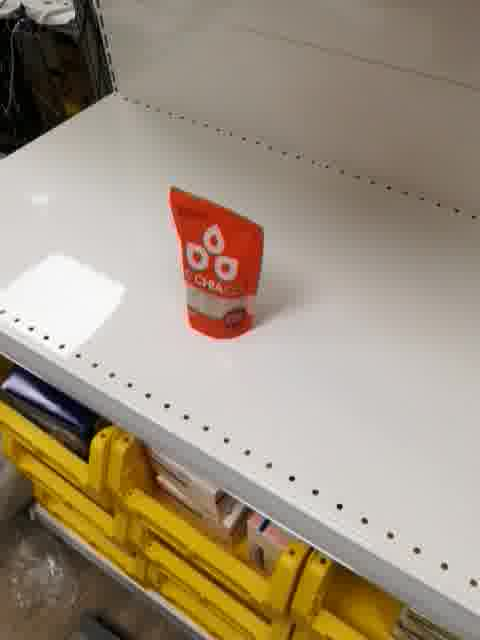whitechia: (167, 180, 266, 342)
